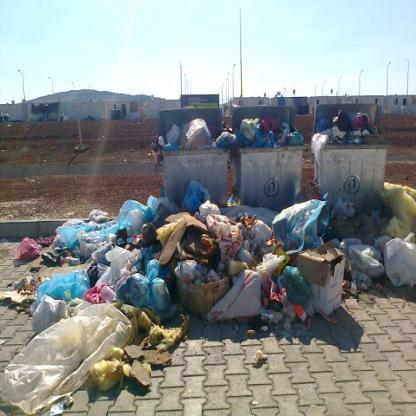Garbage: (122, 210, 416, 320), (32, 275, 194, 372), (185, 210, 287, 334), (62, 218, 178, 286), (294, 207, 351, 324), (8, 340, 89, 416), (354, 206, 416, 298), (314, 113, 385, 148), (162, 117, 233, 149), (235, 116, 308, 146)
